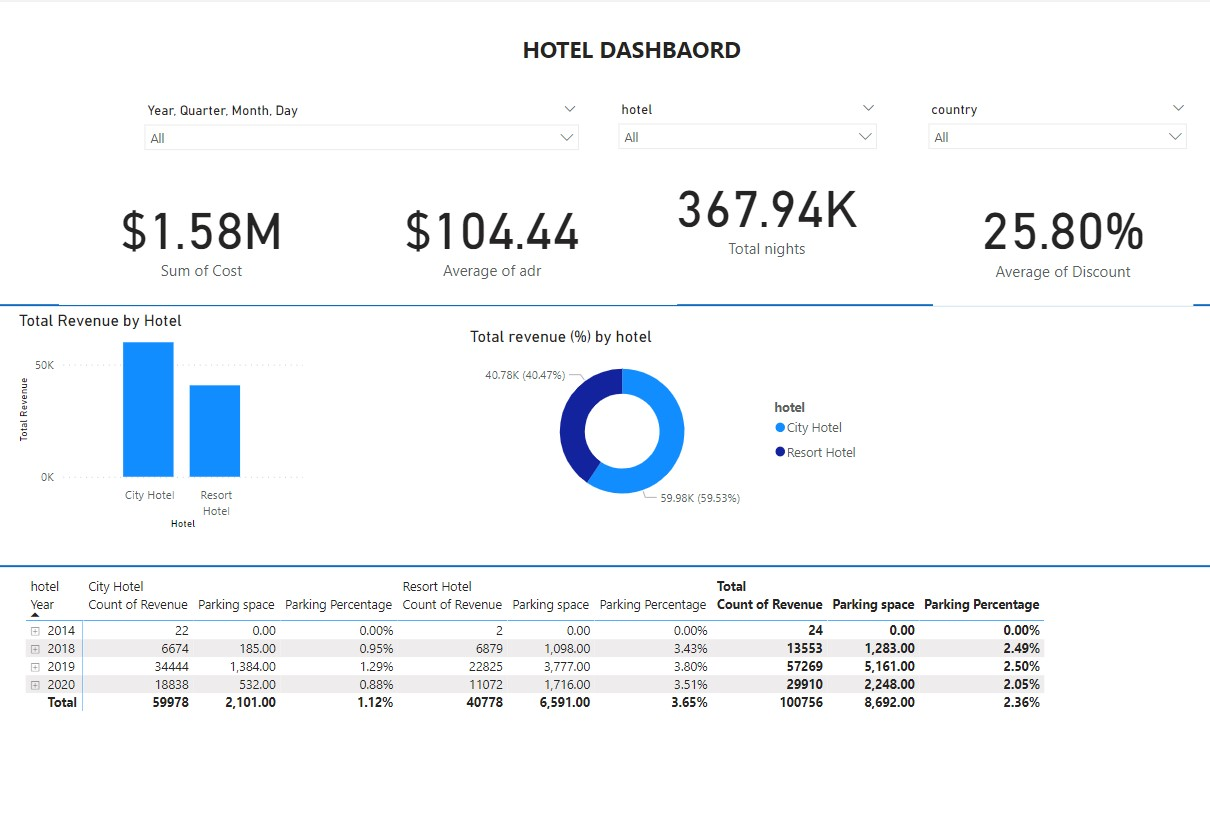

This screenshot's page, from the dashboard's own definition file:
{"tool":"powerbi","page":{"name":"Page 1","canvas":[1280,900],"ordinal":0},"visuals":[{"type":"shape","box":[1,351.8,1280,12.5],"z":0},{"type":"shape","box":[1,627,1280.3,12.7],"z":1000},{"type":"card","fields":{"Values":["Sum(Query1.Cost)"]},"box":[63.7,208.1,300.9,150.5],"z":2000},{"type":"card","fields":{"Values":["Avg(Query1.adr)"]},"box":[325.1,208.1,390.7,150.5],"z":3000},{"type":"card","fields":{"Values":["Query1.Total nights"]},"box":[622.2,184.9,378.2,150],"z":4000},{"type":"card","fields":{"Values":["Avg(Query1.Discount)"]},"box":[986.8,207.8,275.2,150.5],"z":5000},{"type":"lineClusteredColumnComboChart","fields":{"Category":["Query1.hotel"],"Y":["CountNonNull(Query1.Revenue)"]},"box":[15.5,364.3,309.6,235.4],"z":6000},{"type":"slicer","fields":{"Values":["Query1.country"]},"box":[971.4,138.6,293.2,75.2],"z":7000},{"type":"slicer","fields":{"Values":["Query1.hotel"]},"box":[644.4,138.6,293.2,75.2],"z":8000},{"type":"donutChart","fields":{"Category":["Query1.hotel"],"Y":["CountNonNull(Query1.Revenue)"]},"box":[492.3,381.3,426.8,200.7],"z":9000},{"type":"pivotTable","fields":{"Rows":["Query1.reservation_status_date.Variation.Date Hierarchy.Year","Query1.hotel"],"Values":["CountNonNull(Query1.Revenue)","Sum(Query1.required_car_parking_spaces)","Query1.Parking Percentage"],"Columns":["Query1.hotel"]},"box":[23.7,640.1,1126.1,192.3],"z":10000},{"type":"slicer","fields":{"Values":["Query1.reservation_status_date.Variation.Date Hierarchy.Year","Query1.reservation_status_date.Variation.Date Hierarchy.Quarter","Query1.reservation_status_date.Variation.Date Hierarchy.Month","Query1.reservation_status_date.Variation.Date Hierarchy.Day"]},"box":[143.6,139,478.5,63.4],"z":10001},{"type":"textbox","box":[364.4,66.5,607.4,44.4],"z":10003}]}

Visuals, with their boxes on the page's 1280x900 design canvas (x1, y1, x2, y2). These are canvas units, not pixel positions in the 1210x817 screenshot, which may show the page scaled, cropped or inside an application window:
shape: 1,352,1281,364
shape: 1,627,1281,640
card - Sum(Query1.Cost): 64,208,365,359
card - Avg(Query1.adr): 325,208,716,359
card - Query1.Total nights: 622,185,1000,335
card - Avg(Query1.Discount): 987,208,1262,358
lineClusteredColumnComboChart - Query1.hotel x CountNonNull(Query1.Revenue): 16,364,325,600
slicer - Query1.country: 971,139,1265,214
slicer - Query1.hotel: 644,139,938,214
donutChart - Query1.hotel x CountNonNull(Query1.Revenue): 492,381,919,582
pivotTable - Query1.reservation_status_date.Variation.Date Hierarchy.Year x Query1.hotel: 24,640,1150,832
slicer - Query1.reservation_status_date.Variation.Date Hierarchy.Year x Query1.reservation_status_date.Variation.Date Hierarchy.Quarter: 144,139,622,202
textbox: 364,66,972,111
